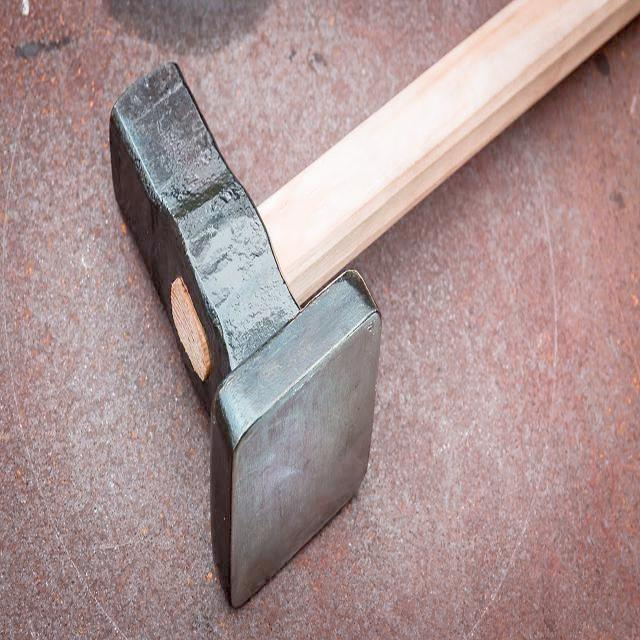hammer: (102, 0, 640, 620)
